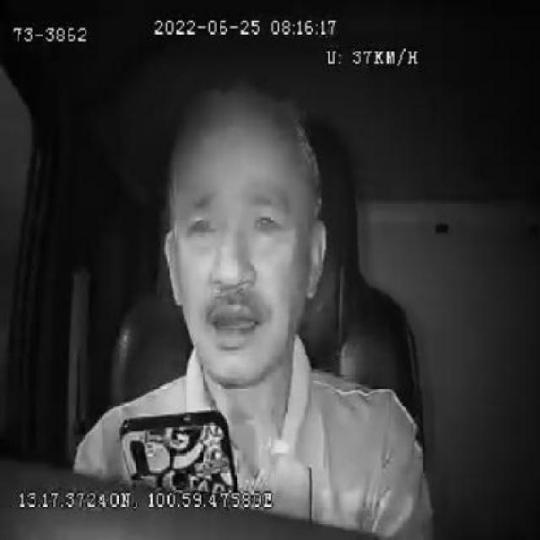phone: (118, 410, 241, 492)
